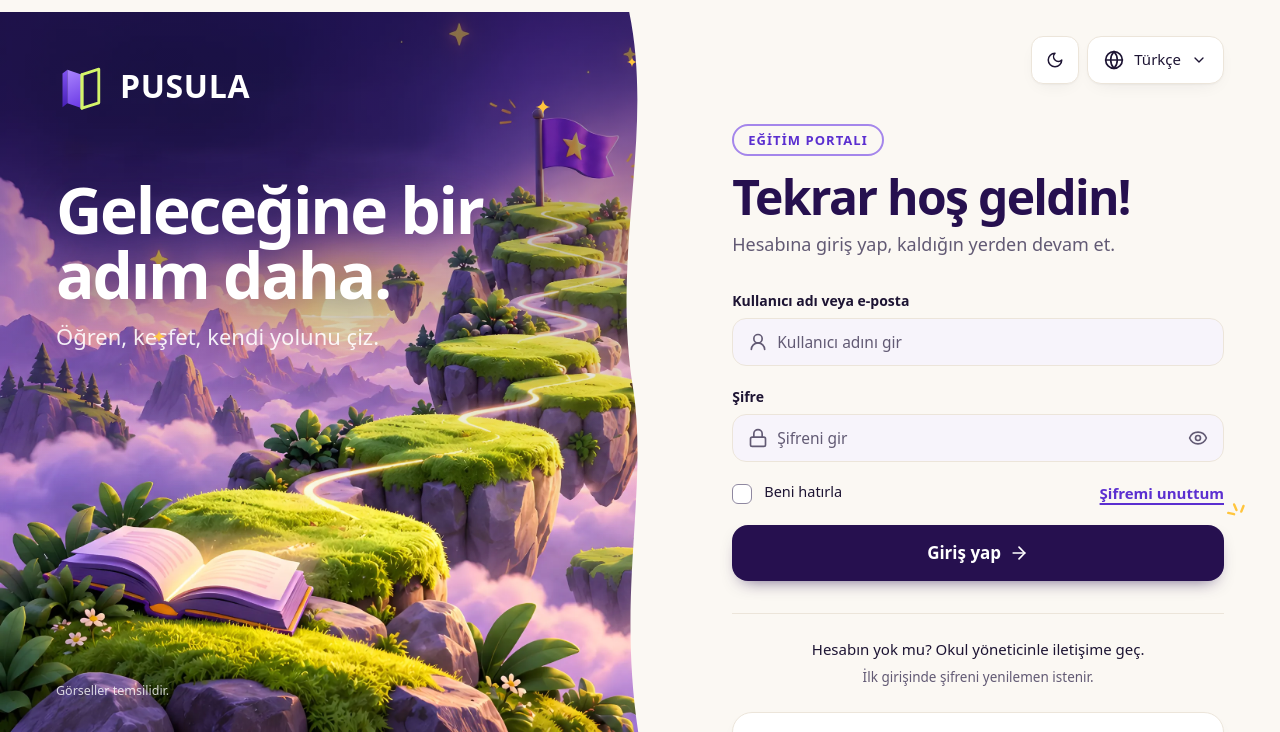
Test case: language and theme › switches to English and remembers the choice
Click the button with aria-label "Arayüz dili" at (1156, 60), box [1087,36,1224,84]
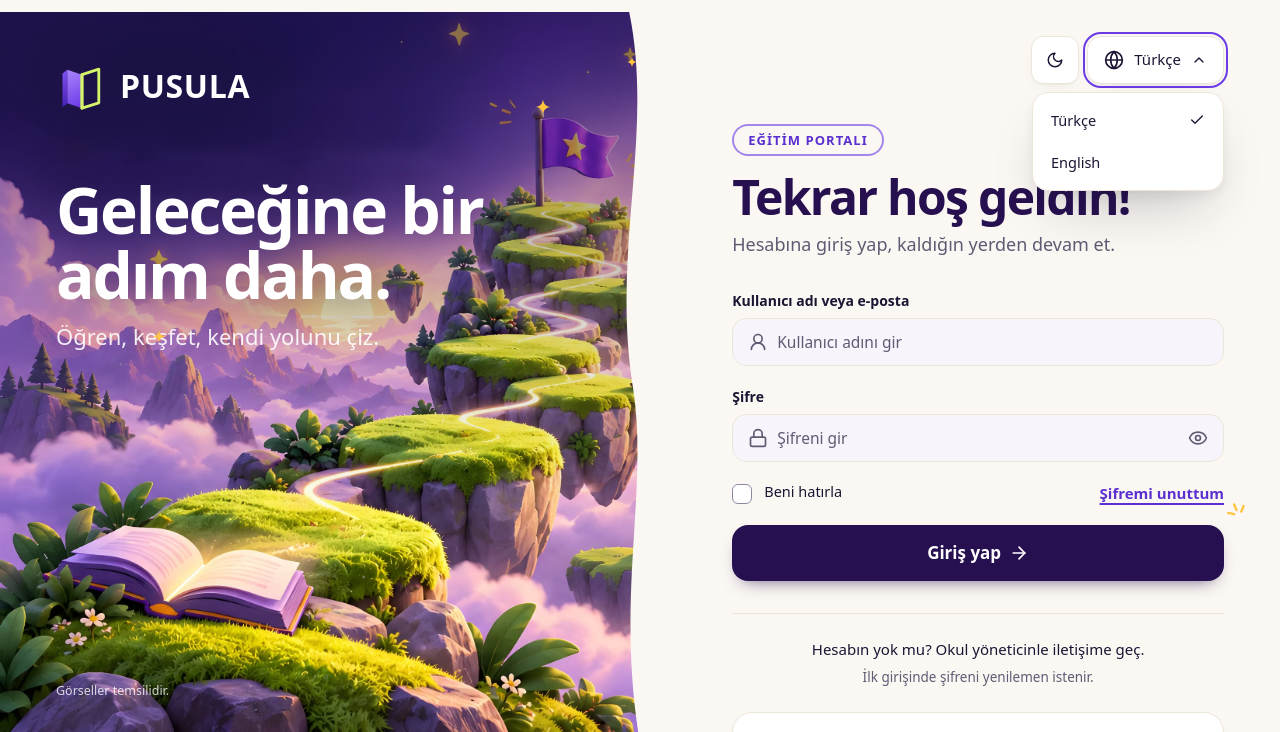
Click the menu item "English" at (1128, 163), box [1039,142,1217,184]
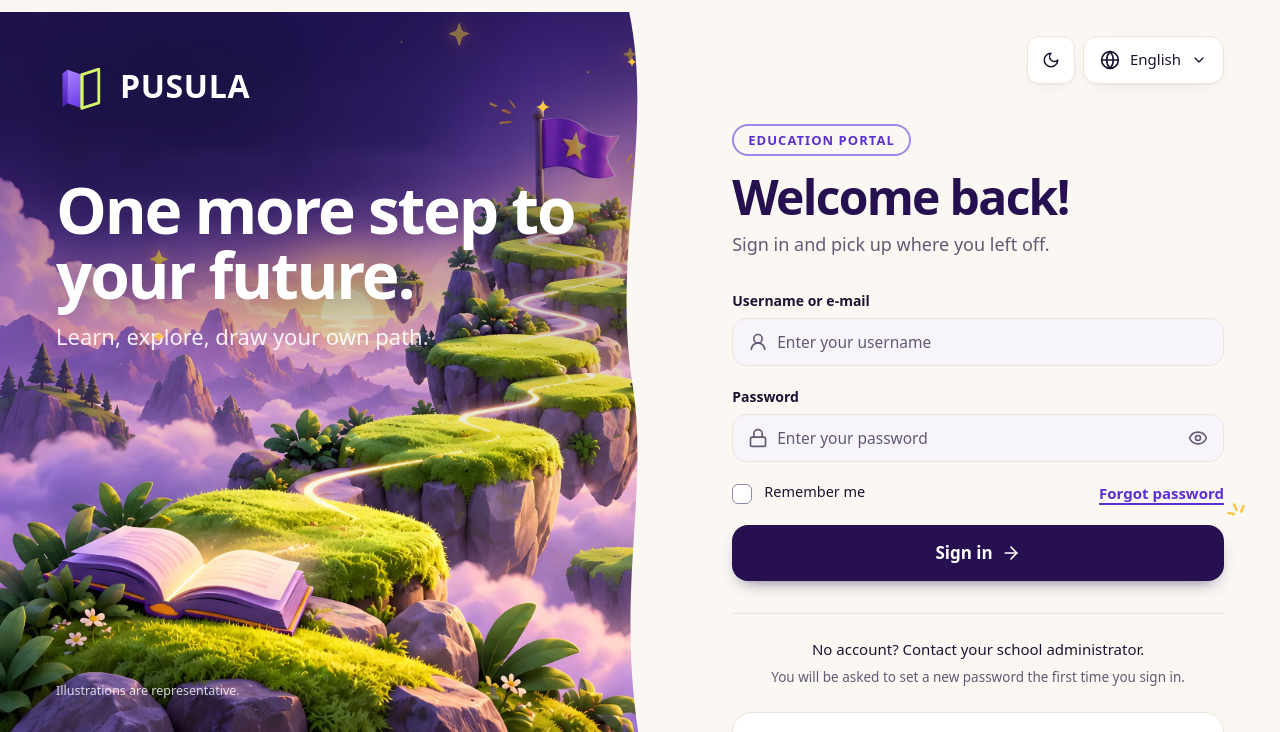
Result: the heading "Welcome back!" is shown at [732,164,1069,229]
